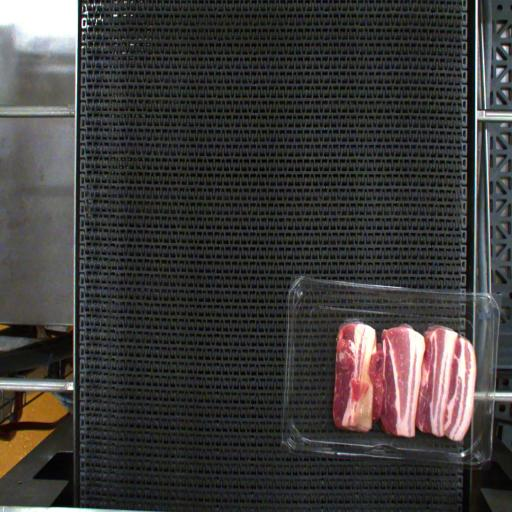twisted-meat: (334, 322, 376, 434)
